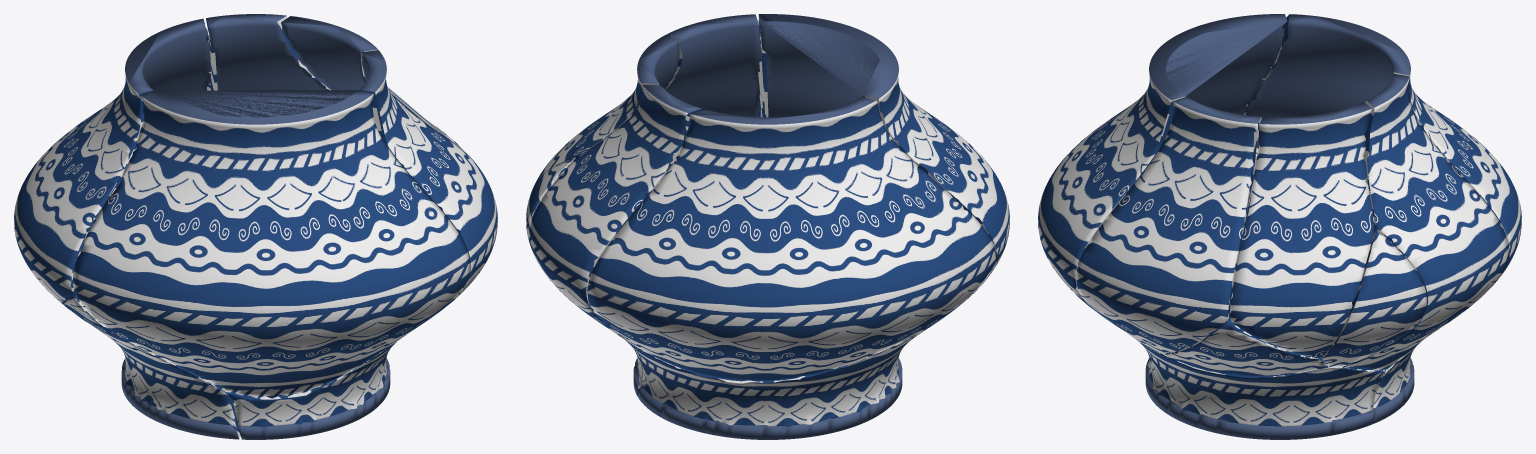
Rendered from VASEFINAL2.fbx.
3 views of the same model, side by side, from view 1: azimuth 30°, elevation 25°; view 2: azimuth 150°, elevation 25°; view 3: azimuth 270°, elevation 25° (orthographic).
Parts seen in each view (by area): view 1: Object_1.028_cell.008, Object_1.028_cell.005, Object_1.028_cell, Object_1.028_cell.003, Object_1.028_cell.007, Object_1.028_cell.002, Object_1.028_cell.006; view 2: Object_1.028_cell.005, Object_1.028_cell.008, Object_1.028_cell.002, Object_1.028_cell.003, Object_1.028_cell, Object_1.028_cell.006, Object_1.028_cell.001; view 3: Object_1.028_cell, Object_1.028_cell.006, Object_1.028_cell.008, Object_1.028_cell.002, Object_1.028_cell.005, Object_1.028_cell.007, Object_1.028_cell.001, Object_1.028_cell.004, Object_1.028_cell.003.
Part boxes in pixels (box(x1,y1,x2,y2)): Object_1.028_cell.008: box(73, 90, 470, 398); Object_1.028_cell.005: box(14, 18, 210, 304); Object_1.028_cell: box(359, 50, 497, 343); Object_1.028_cell.003: box(64, 295, 240, 439); Object_1.028_cell.007: box(228, 342, 396, 439); Object_1.028_cell.002: box(206, 14, 330, 90); Object_1.028_cell.006: box(281, 16, 472, 159); Object_1.028_cell.005: box(587, 96, 995, 381); Object_1.028_cell.008: box(758, 14, 1009, 268); Object_1.028_cell.002: box(528, 84, 701, 350); Object_1.028_cell.003: box(636, 261, 995, 439); Object_1.028_cell: box(665, 14, 765, 117); Object_1.028_cell.006: box(536, 34, 679, 181); Object_1.028_cell.001: box(526, 158, 575, 240); Object_1.028_cell: box(1076, 97, 1261, 353); Object_1.028_cell.006: box(1229, 102, 1374, 358); Object_1.028_cell.008: box(1038, 14, 1287, 310); Object_1.028_cell.002: box(1344, 74, 1509, 370); Object_1.028_cell.005: box(1244, 14, 1521, 275); Object_1.028_cell.007: box(1138, 341, 1386, 439); Object_1.028_cell.001: box(1322, 228, 1426, 367); Object_1.028_cell.004: box(1164, 316, 1326, 376); Object_1.028_cell.003: box(1256, 152, 1418, 423).
Size of the model in its own units: 60.82 by 43.53 by 60.82.
